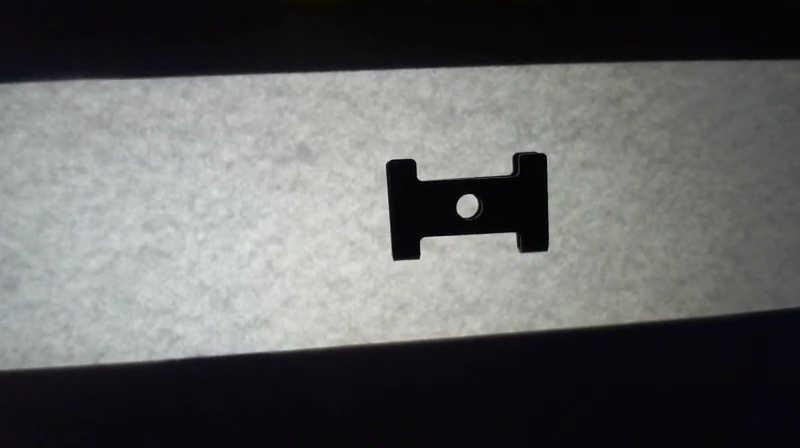O002: (381, 145, 552, 268)
